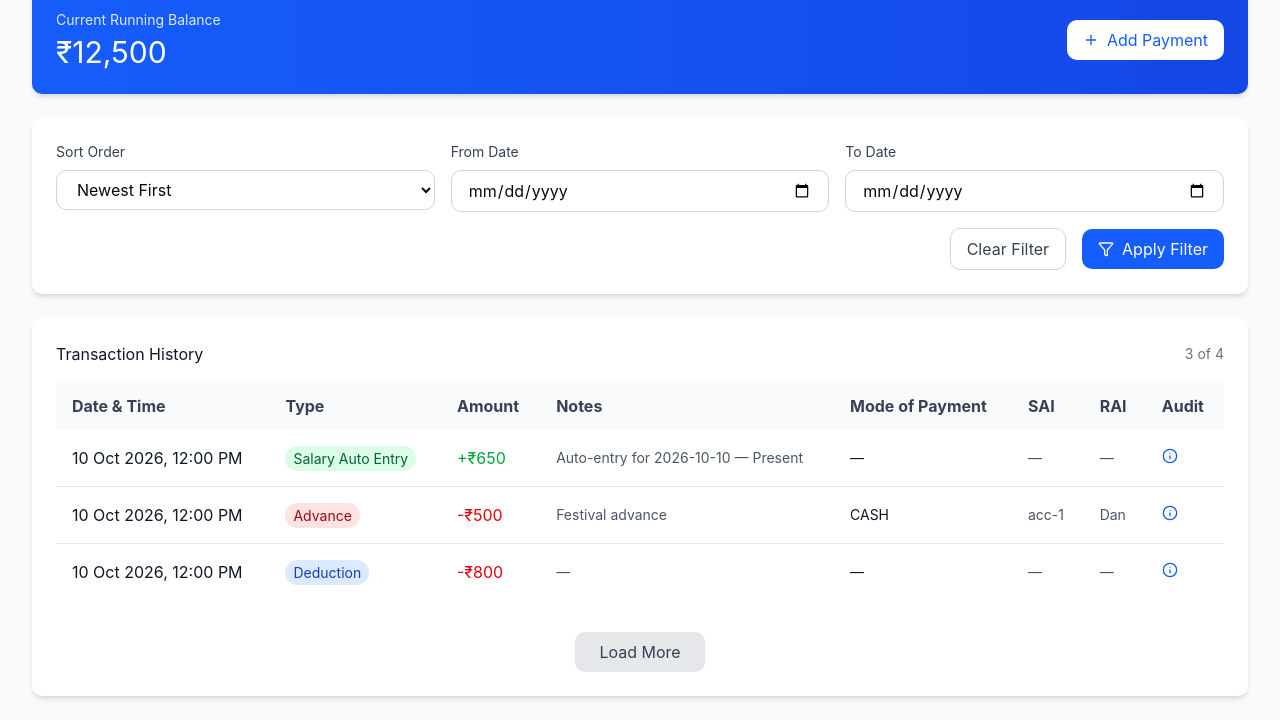
SalaryLedgerDetailScreen › the transactions › adds the next page on Load More, then hides it when everything is shown
(page scrolled)
Click the button "Load More" at (640, 652), box [575,632,705,672]
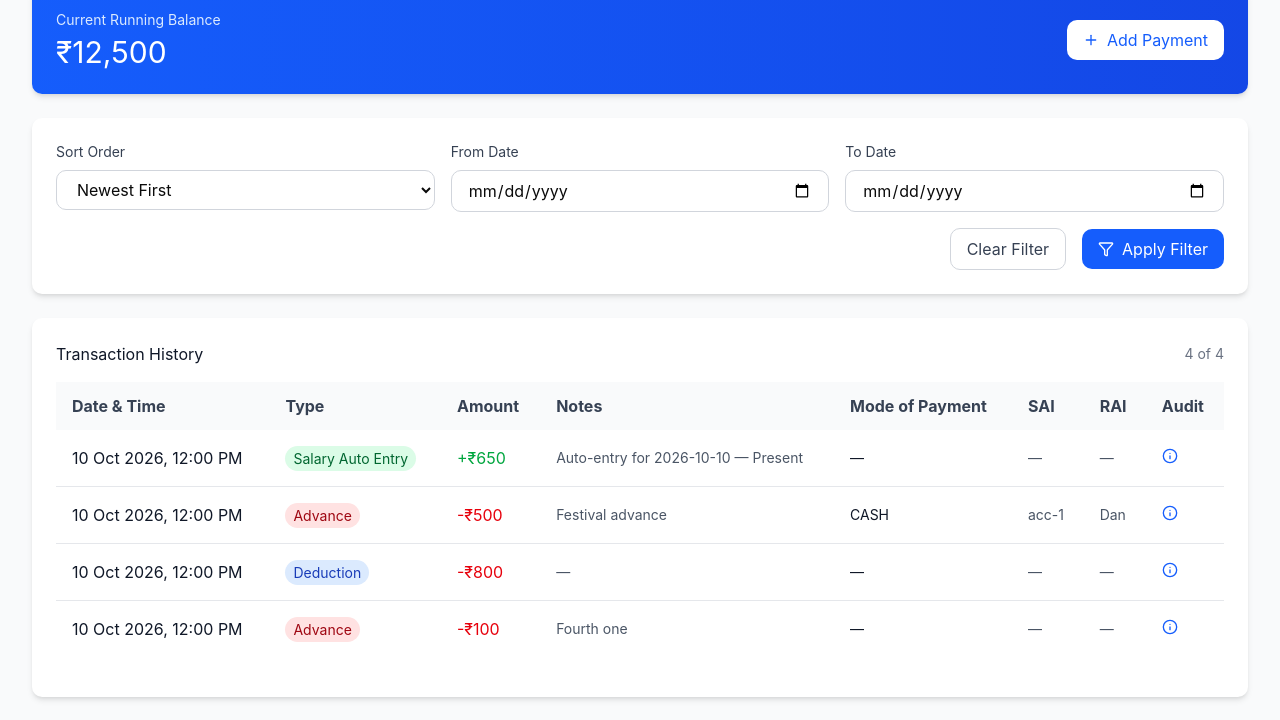
Now the text "Fourth one" is shown, box [540,600,834,657]
Now the text "4 of 4" is shown, box [1184,344,1224,364]
Now the button "Load More" is gone
